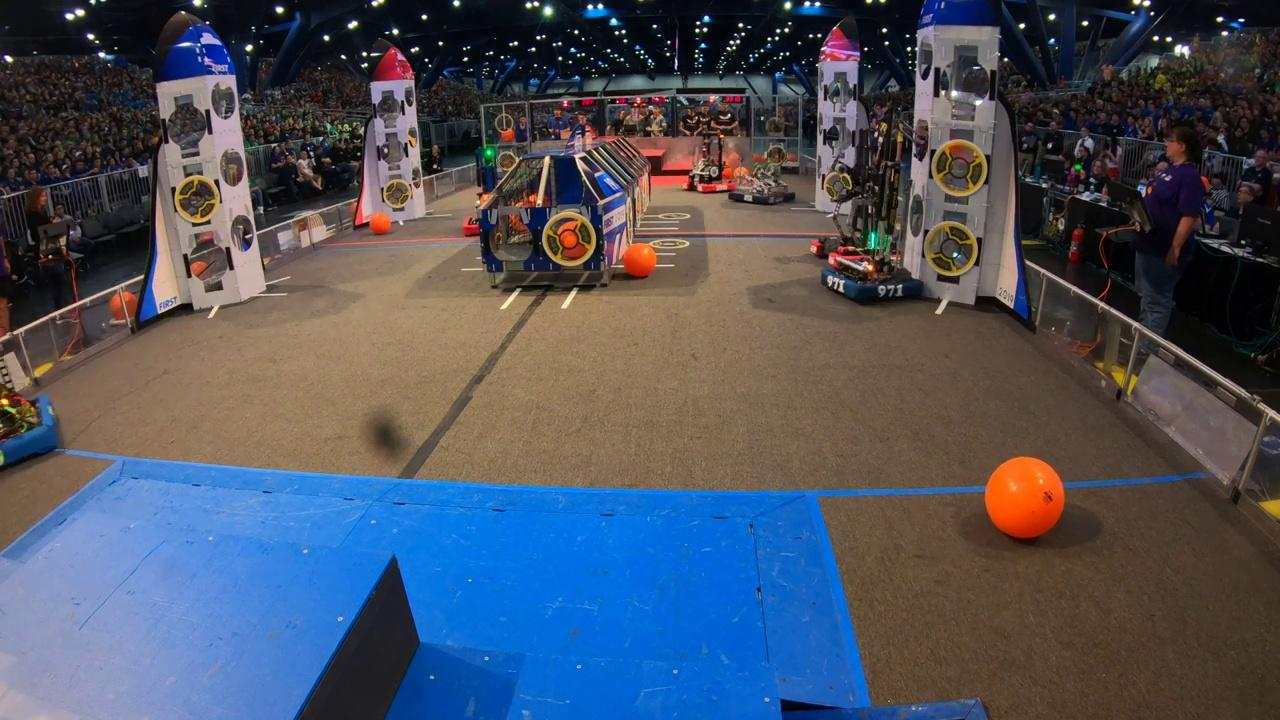robot: (814, 102, 925, 310), (680, 132, 739, 197), (725, 162, 797, 207)
